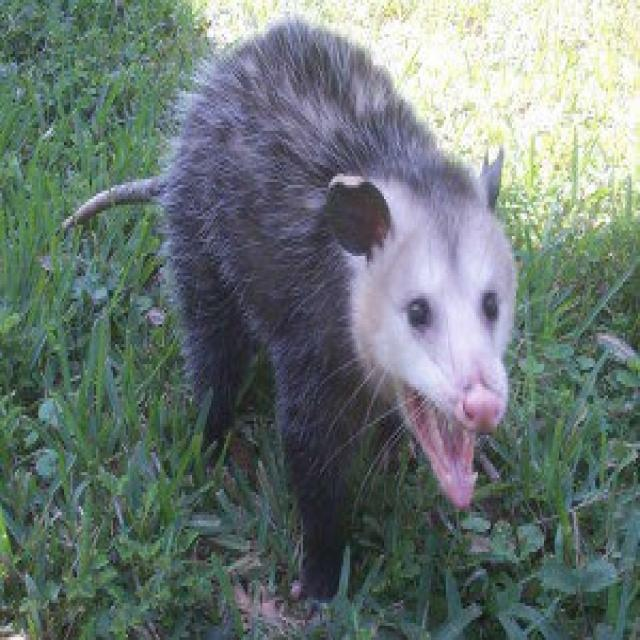possum: (64, 17, 514, 597)
